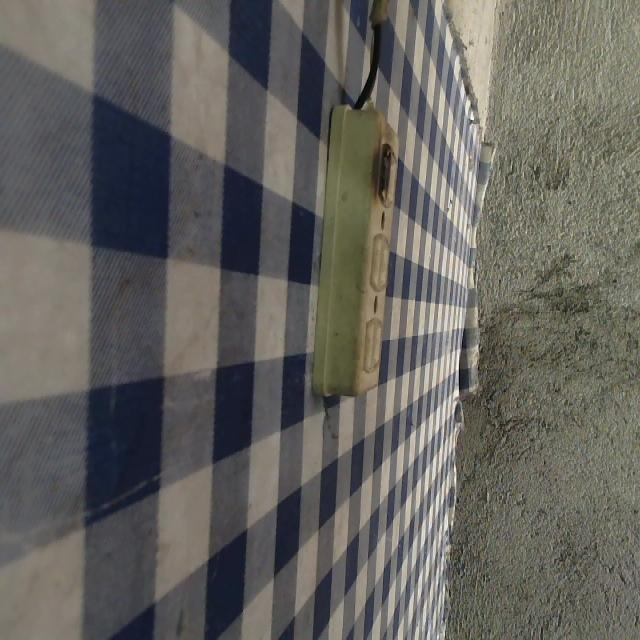-: (367, 135, 395, 209)
